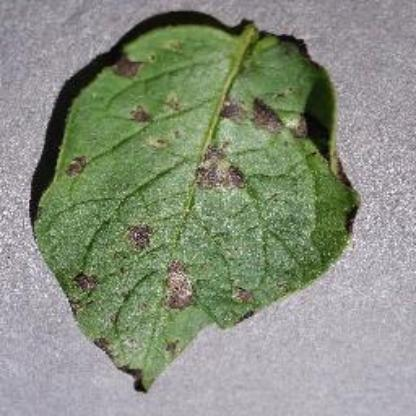Early-Blight: (31, 13, 376, 392)
